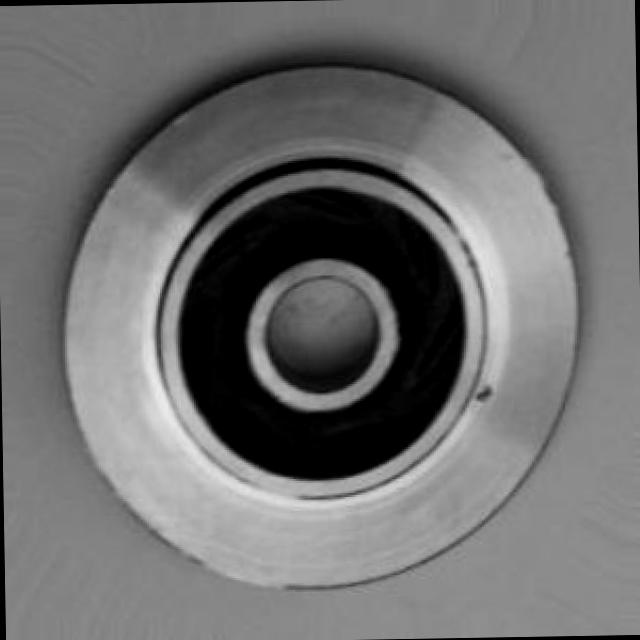Defect: (470, 377, 500, 412)
